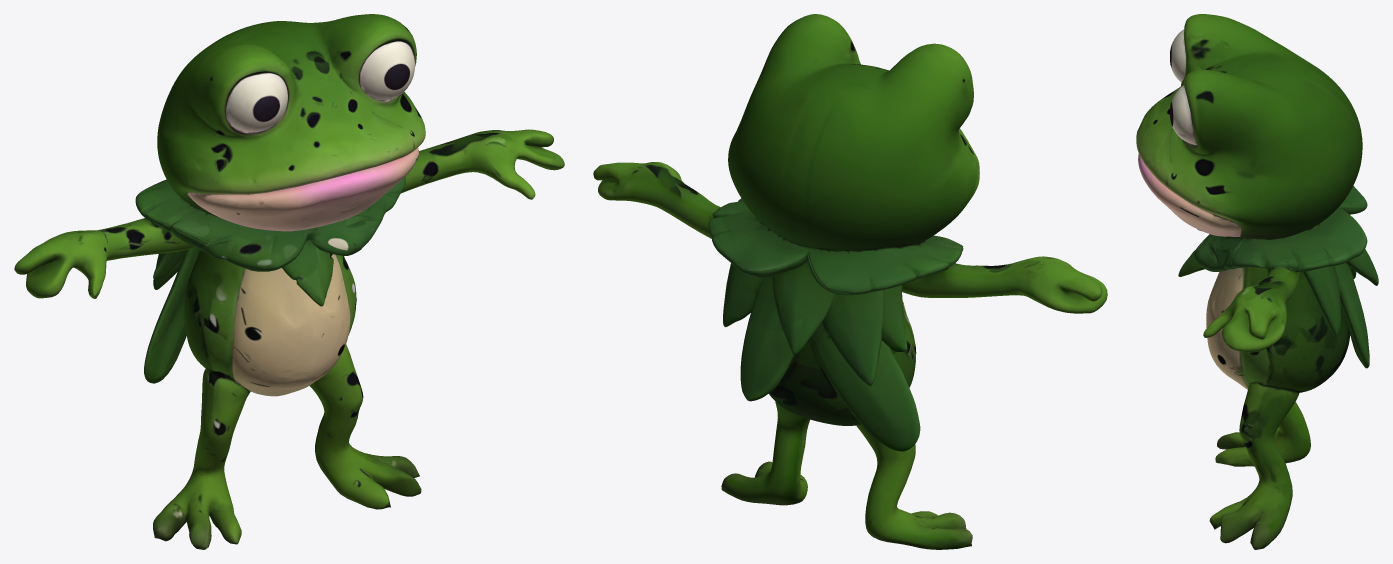
Rendered from bogling_townsperson.glb.
3 views of the same model, side by side, from view 1: azimuth 30°, elevation 25°; view 2: azimuth 150°, elevation 25°; view 3: azimuth 270°, elevation 25° (orthographic). The views are drawn at different scales.
Parts seen in each view (by area): view 1: bogling_townsperson; view 2: bogling_townsperson; view 3: bogling_townsperson.
Part boxes in pixels (x1,y1,x2,y2): bogling_townsperson: [14, 14, 564, 549]; bogling_townsperson: [593, 14, 1107, 549]; bogling_townsperson: [1136, 14, 1378, 549].
Size of the model in its own units: 1.47 by 1.3 by 0.6363.
Materials: 1 (1 with a texture image).
